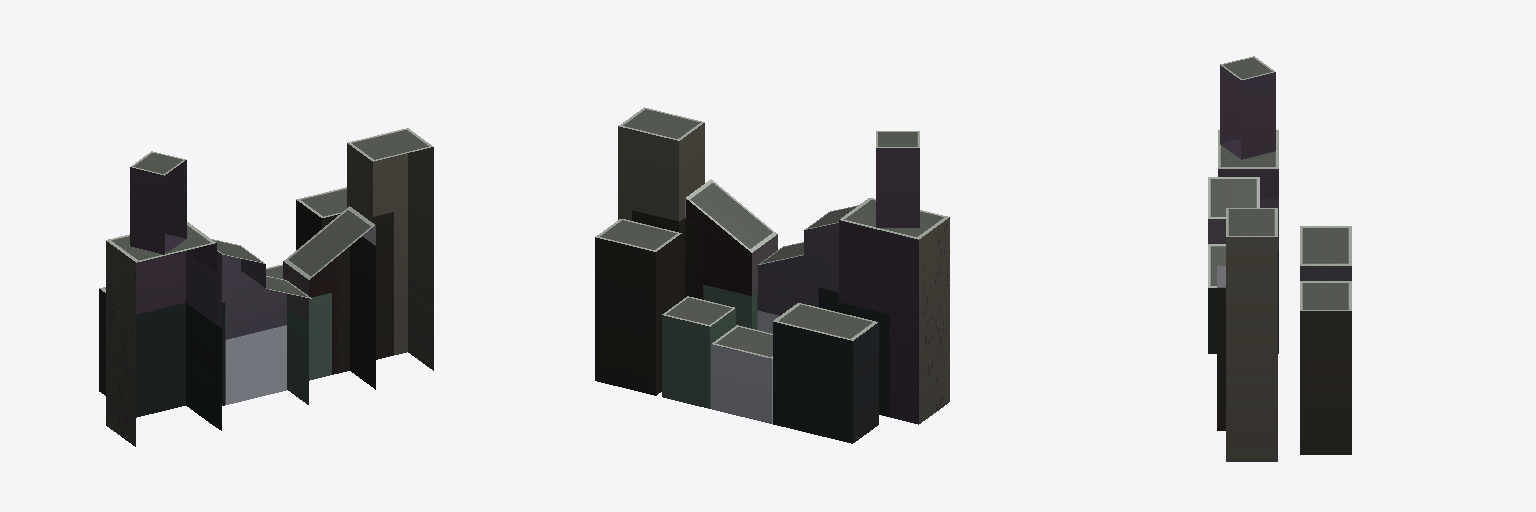
3 renders of one model, left to right at view 1: azimuth 30°, elevation 25°; view 2: azimuth 150°, elevation 25°; view 3: azimuth 270°, elevation 25°, orthographic.
Parts seen in each view (by area): view 1: cityLine.001; view 2: cityLine.001; view 3: cityLine.001.
Boxes of the visible parts, <box> form: cityLine.001: <box>99,128,433,446</box>; cityLine.001: <box>595,107,949,443</box>; cityLine.001: <box>1208,56,1351,461</box>.
Size of the model in its own units: 351 by 294 by 145.
1 materials, 1 textured.